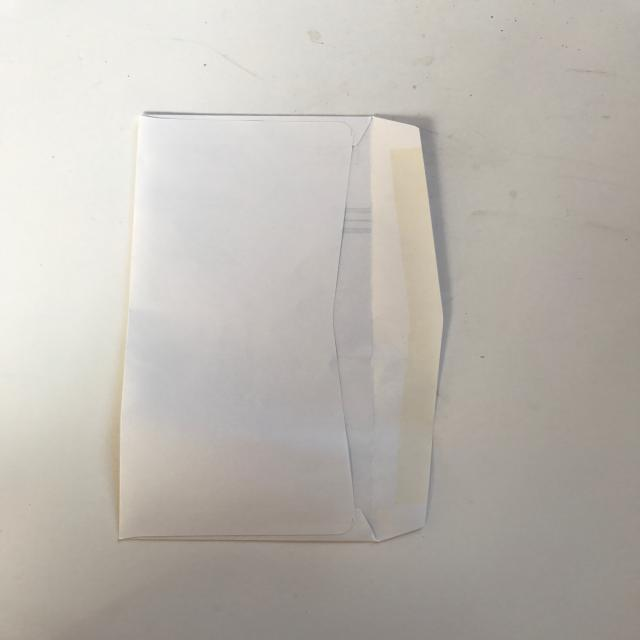paper: (118, 112, 443, 542)
